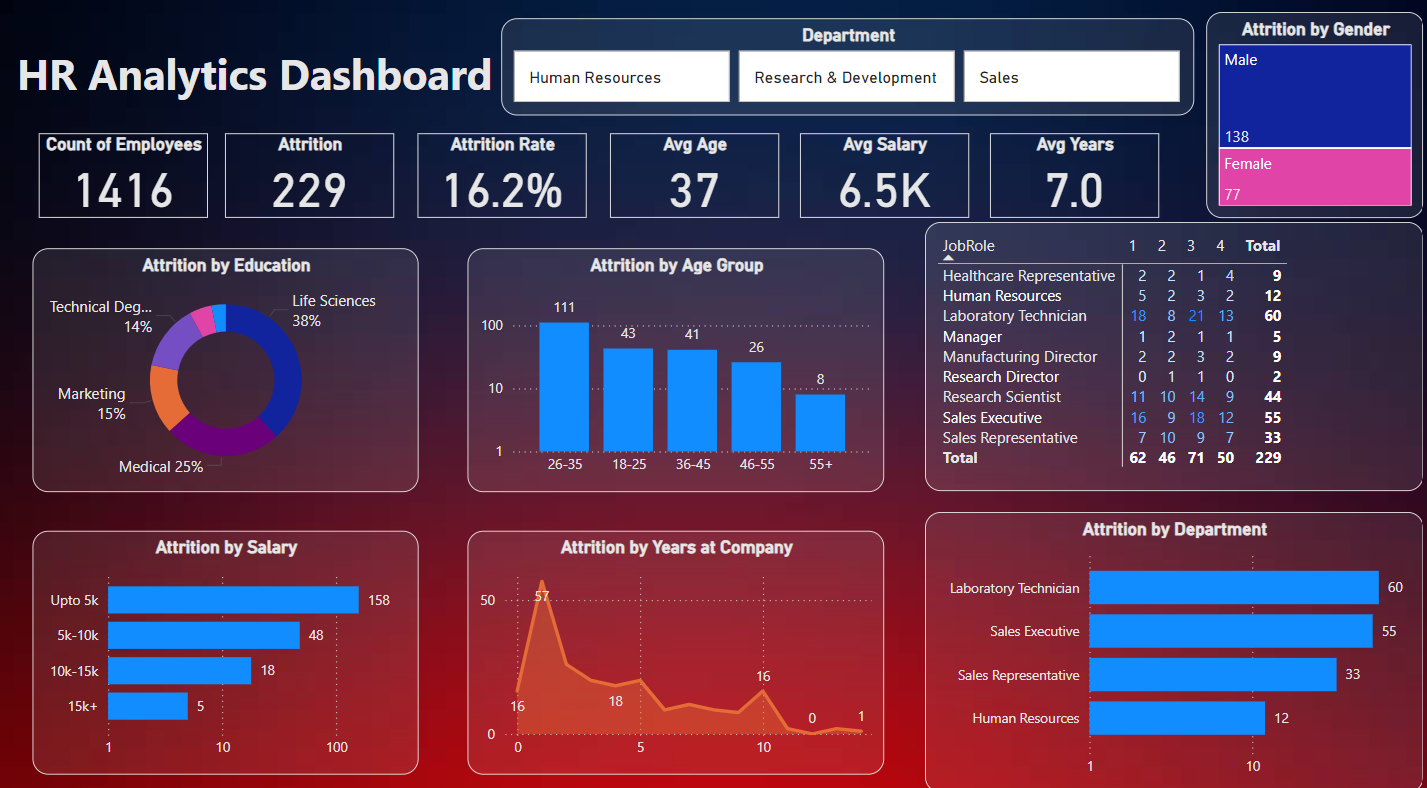

What the dashboard file says about the page in this screenshot:
{"tool":"powerbi","page":{"name":"Page 1","canvas":[1280,720],"ordinal":0},"visuals":[{"type":"card","title":"Count of Employees","fields":{"Values":["CountNonNull(HR_Analytics.EmpID)"]},"box":[38.7,121.5,150,75],"z":0},{"type":"card","title":"Attrition","fields":{"Values":["Sum(HR_Analytics.AttritionCount)"]},"box":[204.9,121.2,150,75],"z":1000},{"type":"card","title":"Attrition Rate","fields":{"Values":["HR_Analytics.AttritionRate"]},"box":[375.1,121.2,150,75],"z":2000},{"type":"card","title":"Avg Age","fields":{"Values":["Avg(HR_Analytics.Age)"]},"box":[546.8,121.2,150,75],"z":3000},{"type":"card","title":"Avg Salary","fields":{"Values":["Avg(HR_Analytics.MonthlyIncome)"]},"box":[715.6,121.2,150,75],"z":4000},{"type":"card","title":"Avg Years","fields":{"Values":["Avg(HR_Analytics.YearsAtCompany)"]},"box":[884.4,121.2,150,75],"z":5000},{"type":"donutChart","title":"Attrition by Education","fields":{"Category":["HR_Analytics.EducationField"],"Y":["Sum(HR_Analytics.AttritionCount)"]},"box":[33.2,223.6,343.4,216.4],"z":6000},{"type":"columnChart","title":"Attrition by Age Group","fields":{"Category":["HR_Analytics.AgeGroup"],"Y":["Sum(HR_Analytics.AttritionCount)"]},"box":[419.8,223.6,370.8,216.4],"z":7000},{"type":"pivotTable","fields":{"Rows":["HR_Analytics.JobRole"],"Columns":["HR_Analytics.JobSatisfaction"],"Values":["Sum(HR_Analytics.AttritionCount)"]},"box":[826.7,200.5,442.9,239.5],"z":8000},{"type":"clusteredBarChart","title":"Attrition by Salary","fields":{"Category":["HR_Analytics.SalarySlab"],"Y":["Sum(HR_Analytics.AttritionCount)"]},"box":[33.2,474.7,343.4,216.4],"z":9000},{"type":"clusteredBarChart","title":"Attrition by Department","fields":{"Y":["Sum(HR_Analytics.AttritionCount)"],"Category":["HR_Analytics.JobRole"]},"box":[826.7,457.4,442.9,249.6],"z":10000},{"type":"areaChart","title":"Attrition by Years at Company","fields":{"Category":["HR_Analytics.YearsAtCompany"],"Y":["Sum(HR_Analytics.AttritionCount)"]},"box":[419.8,474.7,370.8,216.4],"z":11000},{"type":"treemap","title":"Attrition by Gender","fields":{"Group":["HR_Analytics.Gender"],"Values":["Sum(HR_Analytics.AttritionCount)"]},"box":[1076.3,13,193.3,183.2],"z":12000},{"type":"advancedSlicerVisual","fields":{"Values":["HR_Analytics.Department"]},"box":[450.1,18.8,616.1,86.6],"z":13000},{"type":"textbox","box":[14.4,37.5,435.7,83.7],"z":14000}]}

Visuals, with their boxes in screenshot pixels (x1, y1, x2, y2), scaled from the page's 1280x720 canvas onto the 1427x788 screenshot:
"Count of Employees" card: 43/133/210/215
"Attrition" card: 228/133/396/215
"Attrition Rate" card: 418/133/585/215
"Avg Age" card: 610/133/777/215
"Avg Salary" card: 798/133/965/215
"Avg Years" card: 986/133/1153/215
"Attrition by Education" donutChart: 37/245/420/482
"Attrition by Age Group" columnChart: 468/245/881/482
pivotTable - HR_Analytics.JobRole x HR_Analytics.JobSatisfaction: 922/219/1415/482
"Attrition by Salary" clusteredBarChart: 37/520/420/756
"Attrition by Department" clusteredBarChart: 922/501/1415/774
"Attrition by Years at Company" areaChart: 468/520/881/756
"Attrition by Gender" treemap: 1200/14/1415/215
advancedSlicerVisual - HR_Analytics.Department: 502/21/1189/115
textbox: 16/41/502/133
